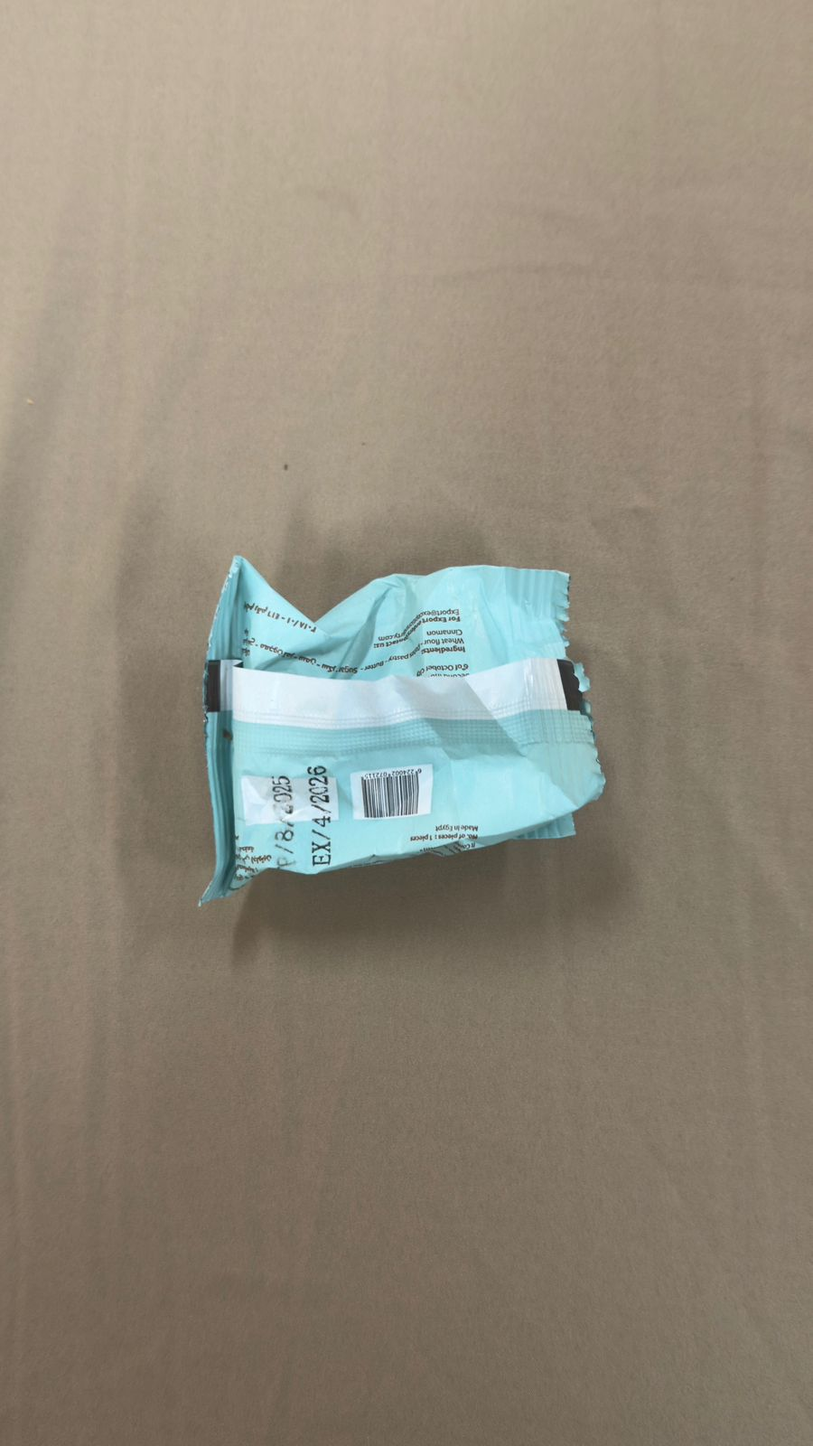plastic: (81, 153, 732, 1310)
